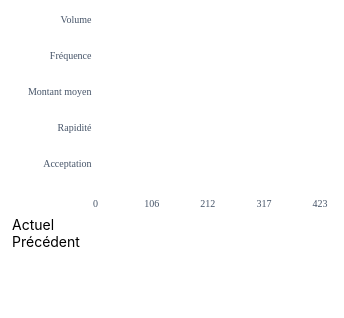
Themed Charts › keeps client metric labels and grouped values on the same independent touch row
What coordinates should you click on to do the following:
click the button "Rapidité"
I would click on:
 (75, 127)
Its box is [12,110,320,146].
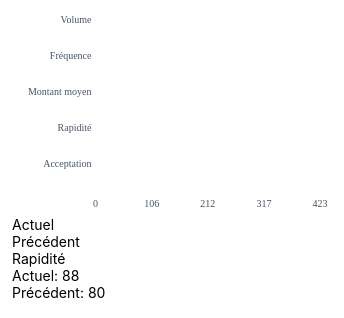
Expected: the text "Actuel: 88" is shown, [12,267,79,284]
Expected: the text "Précédent: 80" is shown, [12,284,105,301]
What coordinates should you click on to do the following:
click the button "Montant moyen"
I would click on:
 (60, 91)
Its box is [12,74,320,110].
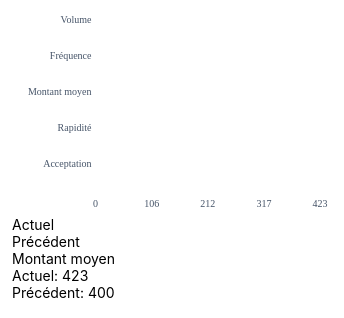
Expected: the text "Actuel: 423" is shown, [12,267,88,284]
Expected: the text "Précédent: 400" is shown, [12,284,115,301]
